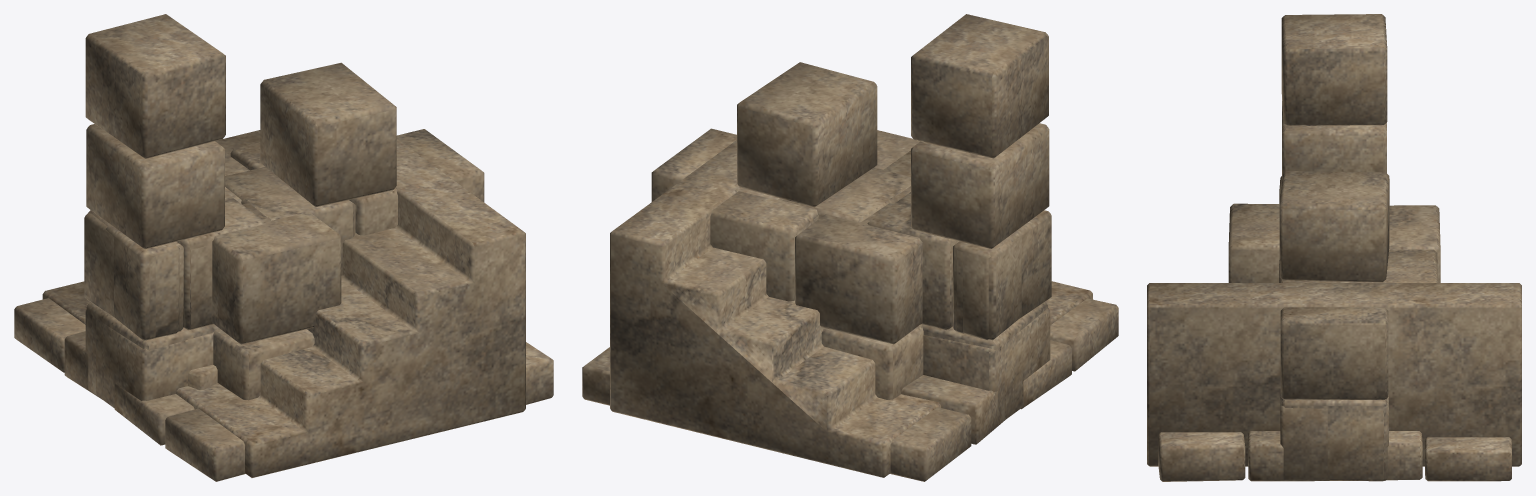
File: WoodlandMasonry.gltf
The picture shows the model from 3 angles, left to right: view 1: azimuth 30°, elevation 25°; view 2: azimuth 150°, elevation 25°; view 3: azimuth 270°, elevation 25°; orthographic projection. The views are drawn at different scales.
Parts seen in each view (by area): view 1: stair, wallBroken, wallCourse, corner, floorSlab, rubble; view 2: stair, wallBroken, corner, wallCourse, floorSlab; view 3: stair, wallBroken, wallCourse, floorSlab, corner.
Boxes of the visible parts, bbox=[...] form: stair: bbox=[42, 130, 525, 477]; wallBroken: bbox=[84, 14, 396, 394]; wallCourse: bbox=[85, 129, 484, 408]; corner: bbox=[212, 142, 341, 400]; floorSlab: bbox=[14, 298, 553, 481]; rubble: bbox=[188, 365, 217, 389]; stair: bbox=[610, 130, 1092, 477]; wallBroken: bbox=[737, 14, 1049, 425]; corner: bbox=[710, 150, 923, 399]; wallCourse: bbox=[651, 128, 1051, 419]; floorSlab: bbox=[582, 298, 1118, 481]; stair: bbox=[1147, 283, 1521, 466]; wallBroken: bbox=[1279, 14, 1389, 481]; wallCourse: bbox=[1279, 176, 1389, 480]; floorSlab: bbox=[1158, 431, 1511, 481]; corner: bbox=[1228, 203, 1440, 282].
Bounding box in the file's own units: 2.37 × 2.33 × 2.48.
Materials: 1 (1 with a texture image).
